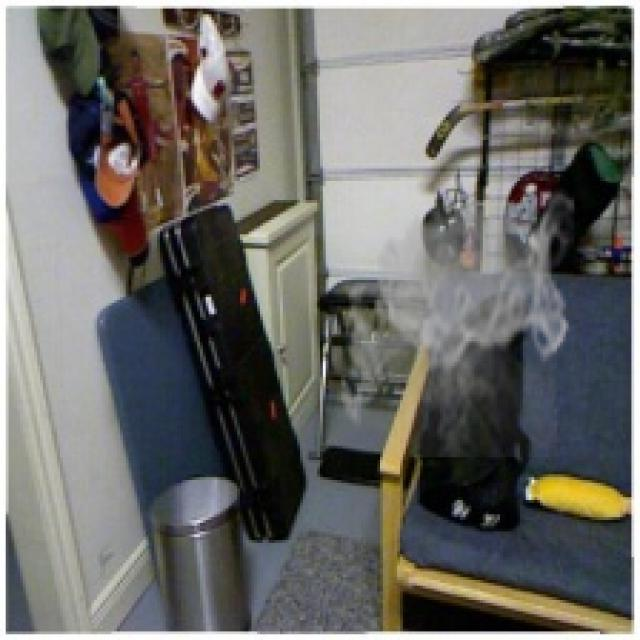smoke: (332, 183, 574, 457)
